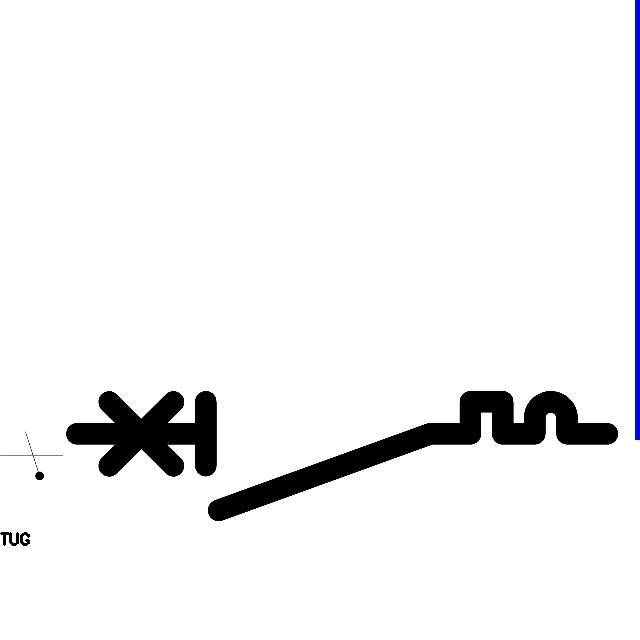interruptor_termomagnetico: (63, 388, 621, 524)
